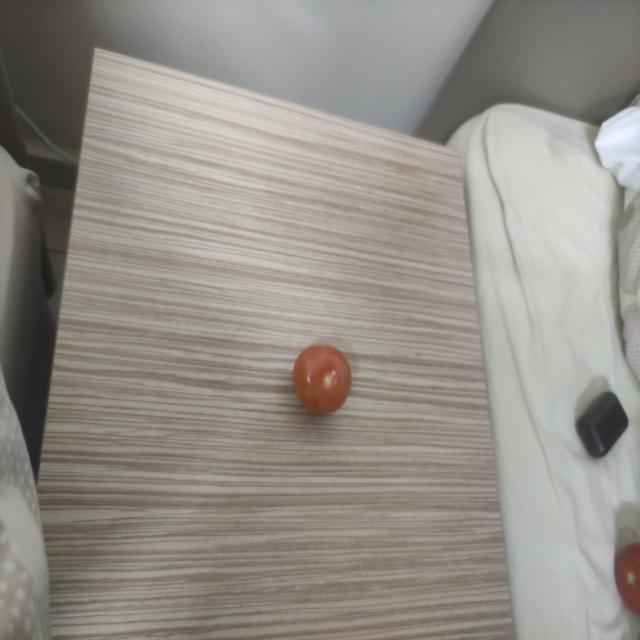sari: (284, 336, 354, 430)
